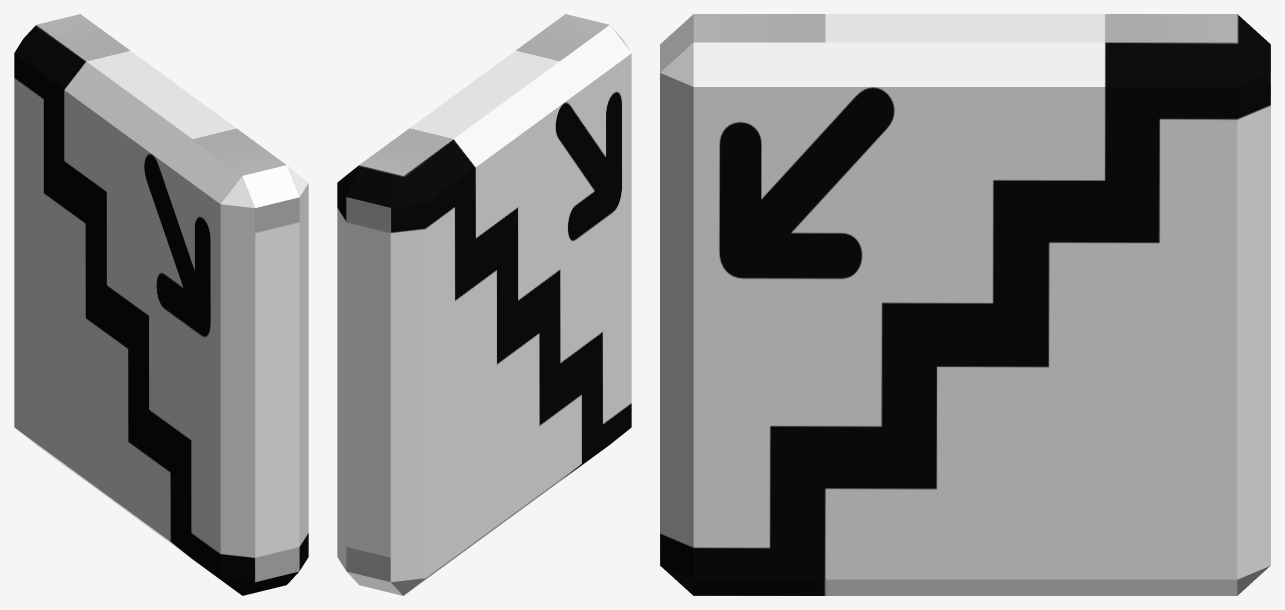
The model's file is Downstairs.obj.
3 renders of one model, left to right at view 1: azimuth 30°, elevation 25°; view 2: azimuth 150°, elevation 25°; view 3: azimuth 270°, elevation 25°, orthographic. The views are drawn at different scales.
Visible parts, largest first — view 1: pCube3; view 2: pCube3; view 3: pCube3.
Boxes of the visible parts, x1,y1,x2,y2 form: pCube3: [14, 14, 308, 595]; pCube3: [337, 14, 631, 595]; pCube3: [660, 14, 1270, 595].
Bounding box in the file's own units: 0.641 × 2.91 × 2.91.
Materials: 1 (1 with a texture image).
